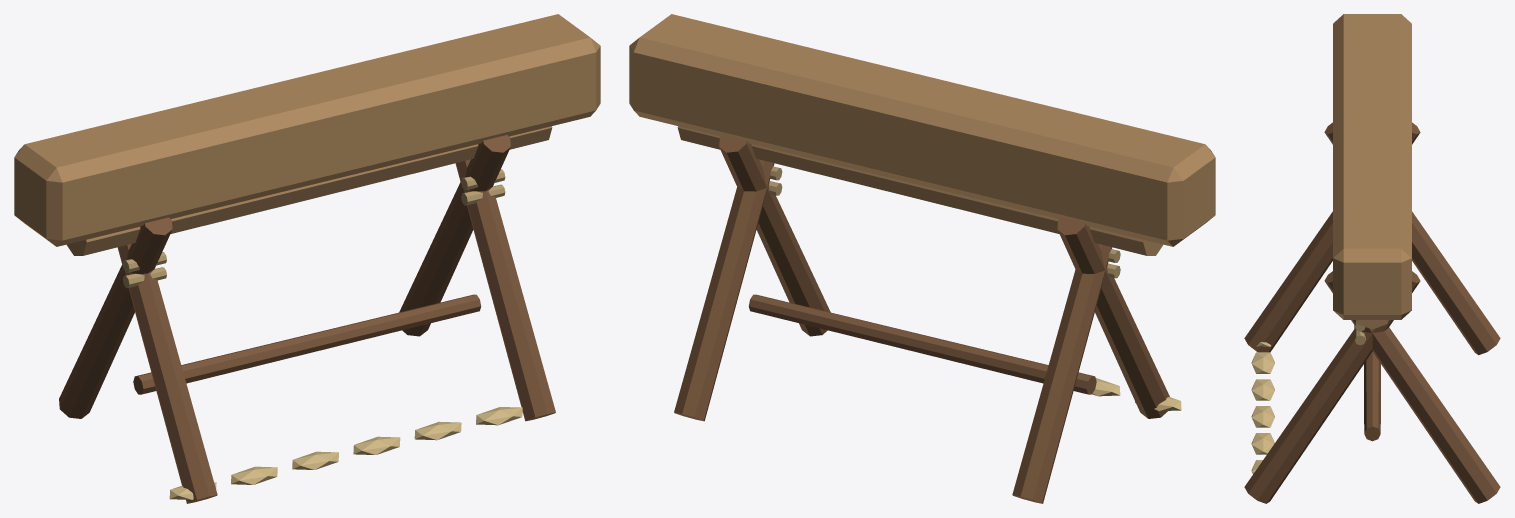
The picture shows the model from 3 angles, left to right: view 1: azimuth 30°, elevation 25°; view 2: azimuth 150°, elevation 25°; view 3: azimuth 270°, elevation 25°; orthographic projection. The views are drawn at different scales.
Visible parts, largest first — view 1: WW-013 Crossed hewing trestle batched; view 2: WW-013 Crossed hewing trestle batched; view 3: WW-013 Crossed hewing trestle batched.
Part boxes in pixels (x1=…): WW-013 Crossed hewing trestle batched: x1=14, y1=14, x2=600, y2=503; WW-013 Crossed hewing trestle batched: x1=629, y1=14, x2=1215, y2=503; WW-013 Crossed hewing trestle batched: x1=1244, y1=14, x2=1500, y2=503.
Size of the model in its own units: 1.9 by 1.08 by 0.8448.
